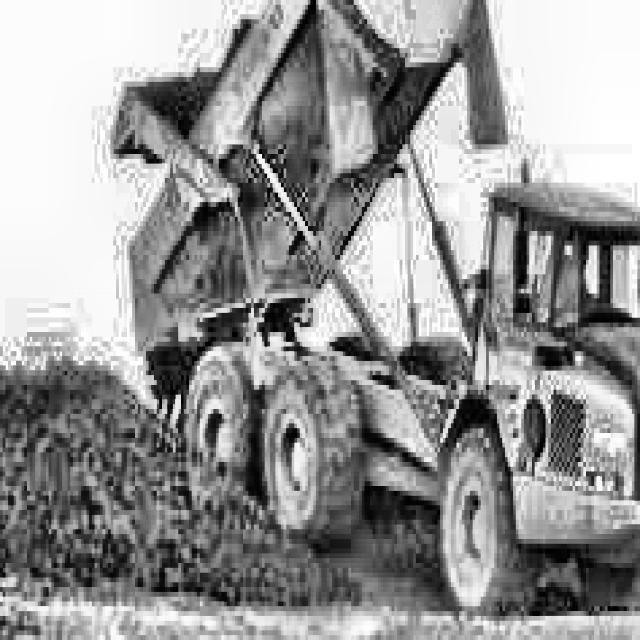dump_truck: (86, 0, 640, 640)
